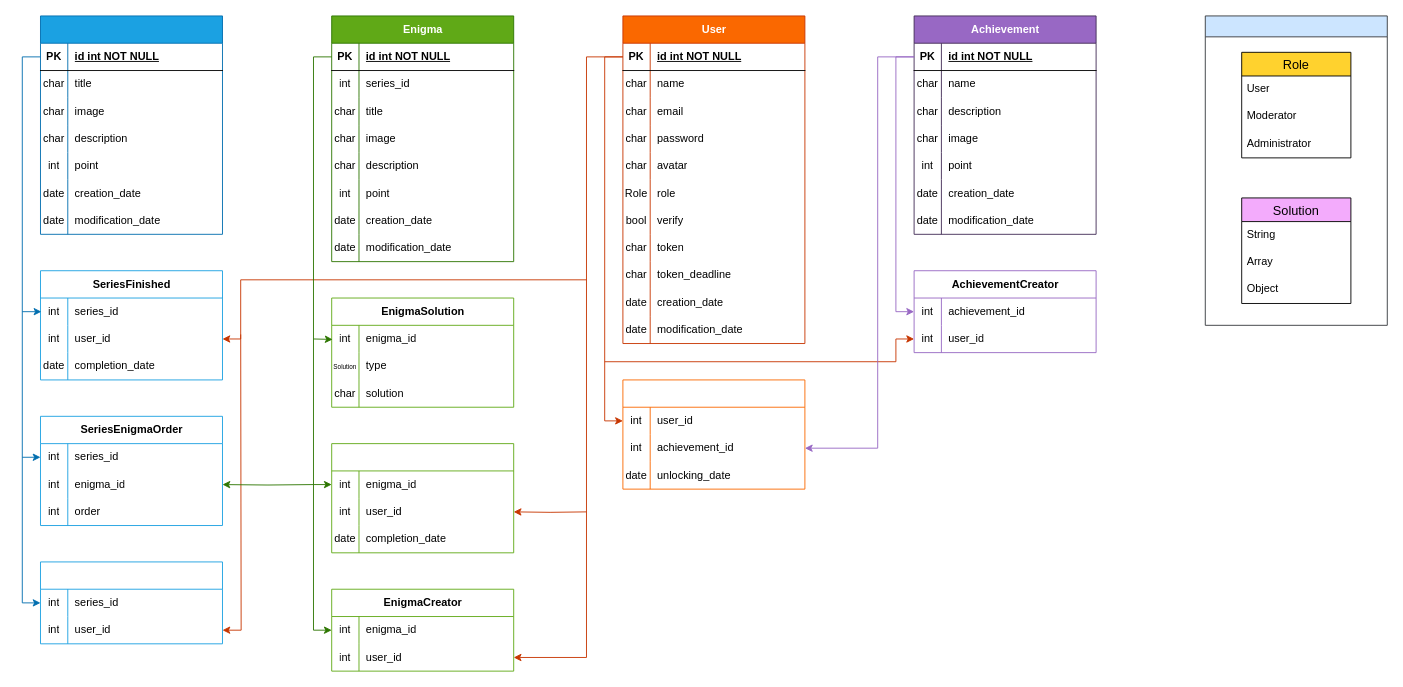
This 1403x687 diagram has some shape labels left out. Here are the shapes that lost their labels. From the top down, the box of each, then its label:
(40, 15, 222, 234): Series
(1204, 15, 1387, 325): Enum
(622, 379, 805, 489): UserAchivement
(331, 443, 514, 553): EnigmaFinished
(40, 561, 222, 644): SeriesCreator
